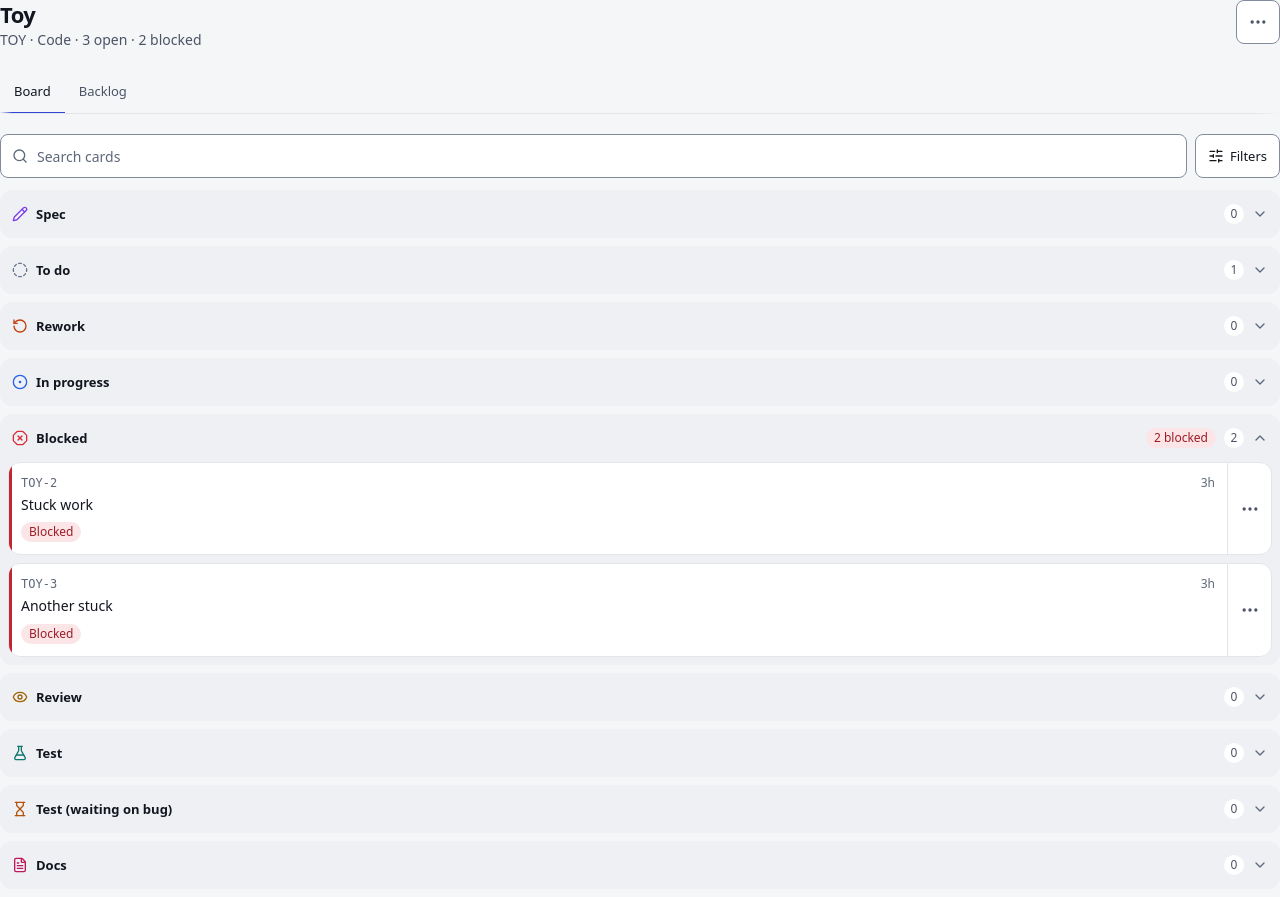
Test case: the phone board page › a Member does not get Pause project in the sheet
The image size is (1280, 897).
Click the button with test id "project-actions-open". click: x=1258, y=22
box: [1236,0,1279,44]
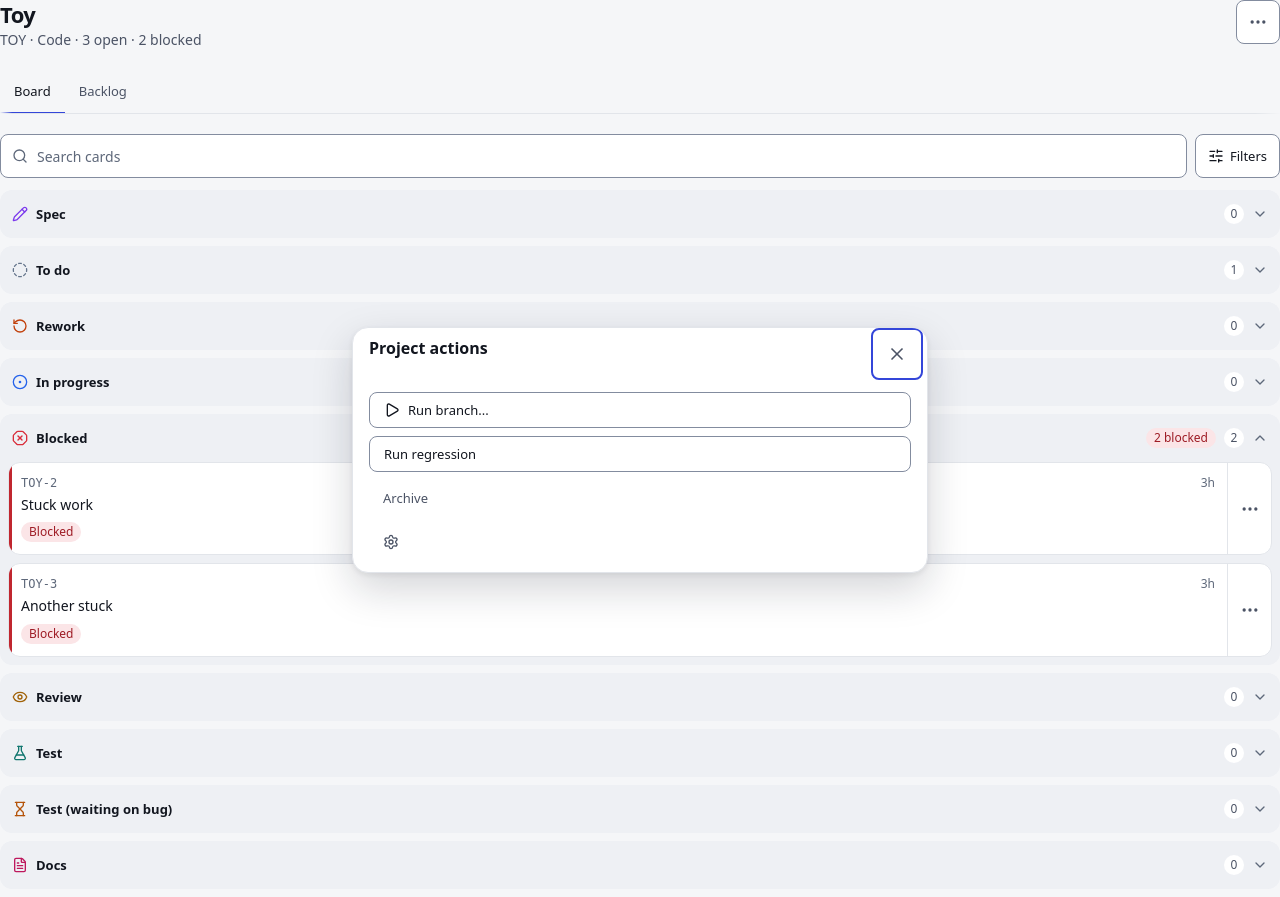
expect the link "Archive" is shown: met, box [383,489,428,507]
